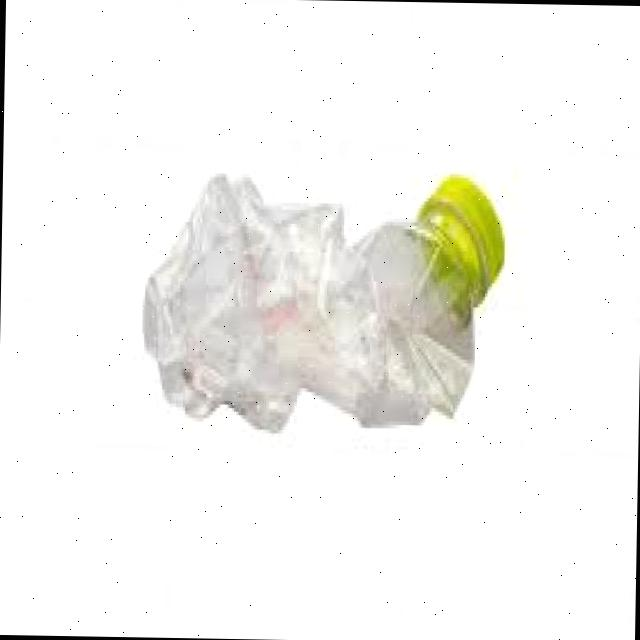bottle: (130, 150, 510, 447)
cap: (411, 168, 519, 276)
